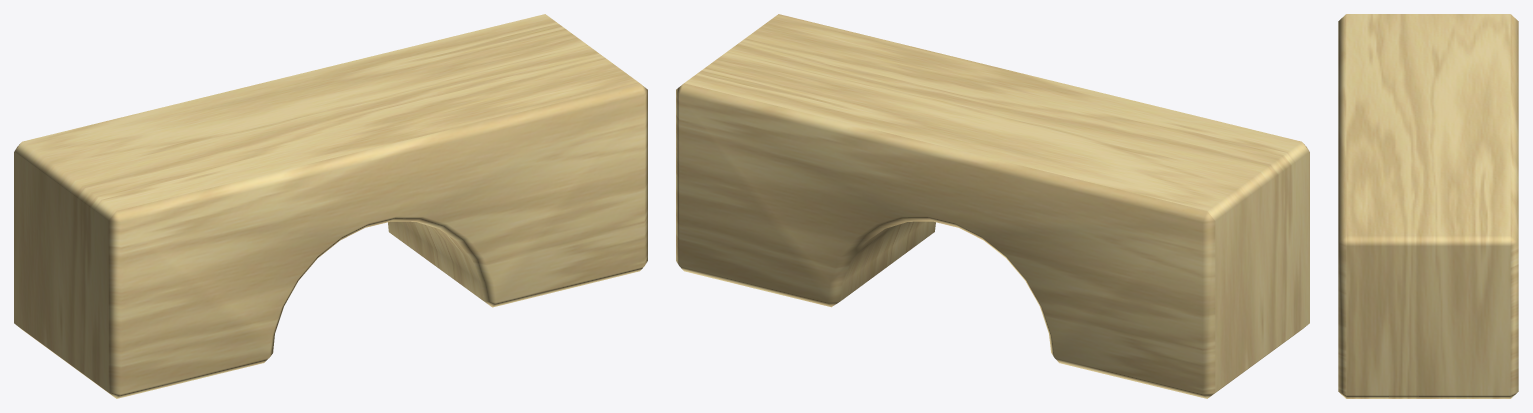
Rendered from BgMD_BuildingBlocks_06.fbx.
The picture shows the model from 3 angles, left to right: view 1: azimuth 30°, elevation 25°; view 2: azimuth 150°, elevation 25°; view 3: azimuth 270°, elevation 25°; orthographic projection. The views are drawn at different scales.
Parts seen in each view (by area): view 1: BgMD_BuildingBlocks_06; view 2: BgMD_BuildingBlocks_06; view 3: BgMD_BuildingBlocks_06.
Boxes of the visible parts, x1,y1,x2,y2 form: BgMD_BuildingBlocks_06: (14,14,647,398); BgMD_BuildingBlocks_06: (676,14,1309,398); BgMD_BuildingBlocks_06: (1338,14,1518,398).
Size of the model in its own units: 300 by 100 by 100.
